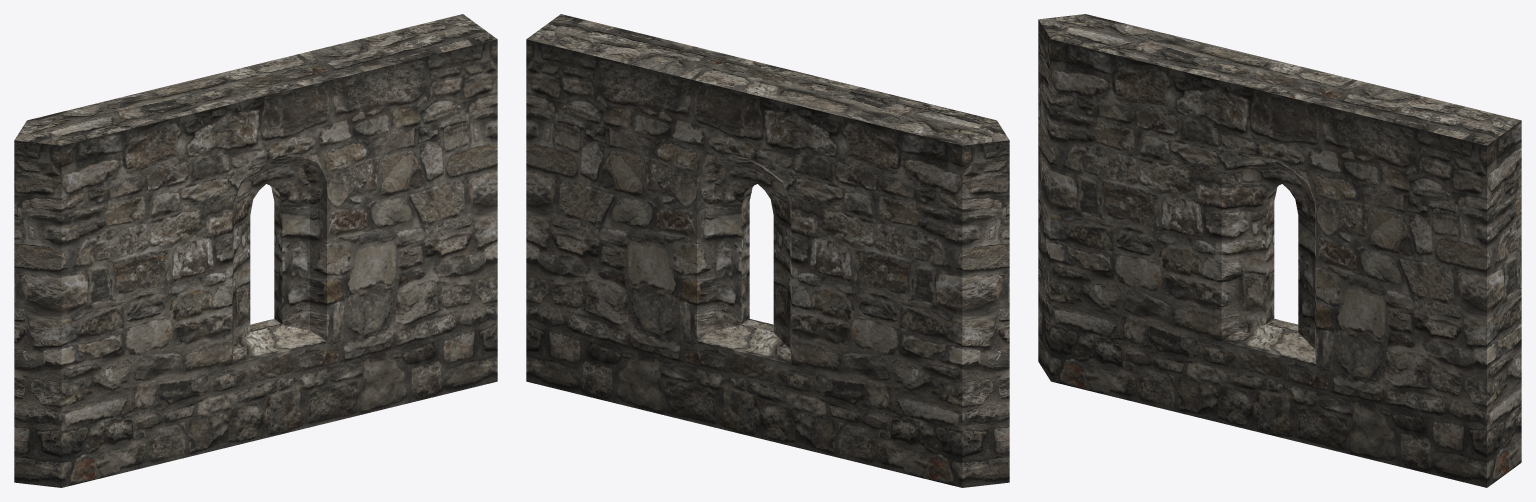
The model's file is House_Stone_Window_Narrow_Upper.dae.
3 renders of one model, left to right at view 1: azimuth 30°, elevation 25°; view 2: azimuth 150°, elevation 25°; view 3: azimuth 330°, elevation 25°, orthographic.
Visible parts, largest first — view 1: StoneWindowNarrowUpper; view 2: StoneWindowNarrowUpper; view 3: StoneWindowNarrowUpper.
Part boxes in pixels (box(x1,y1,x2,y2)): StoneWindowNarrowUpper: box(14, 14, 497, 487); StoneWindowNarrowUpper: box(526, 14, 1009, 487); StoneWindowNarrowUpper: box(1038, 14, 1521, 487).
Size of the model in its own units: 4.28 by 3.02 by 0.55.
Materials: 1 (1 with a texture image).
